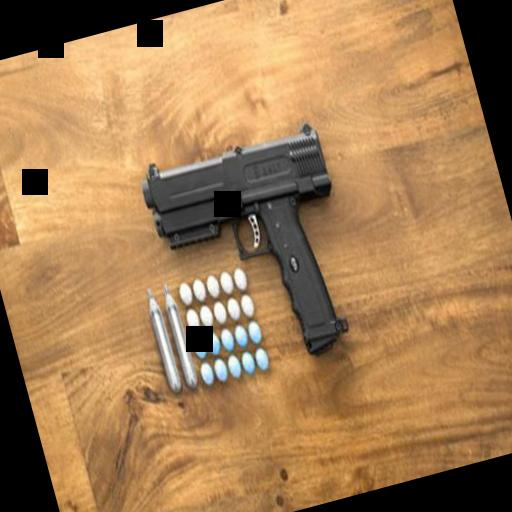Handgun: (130, 114, 374, 388)
